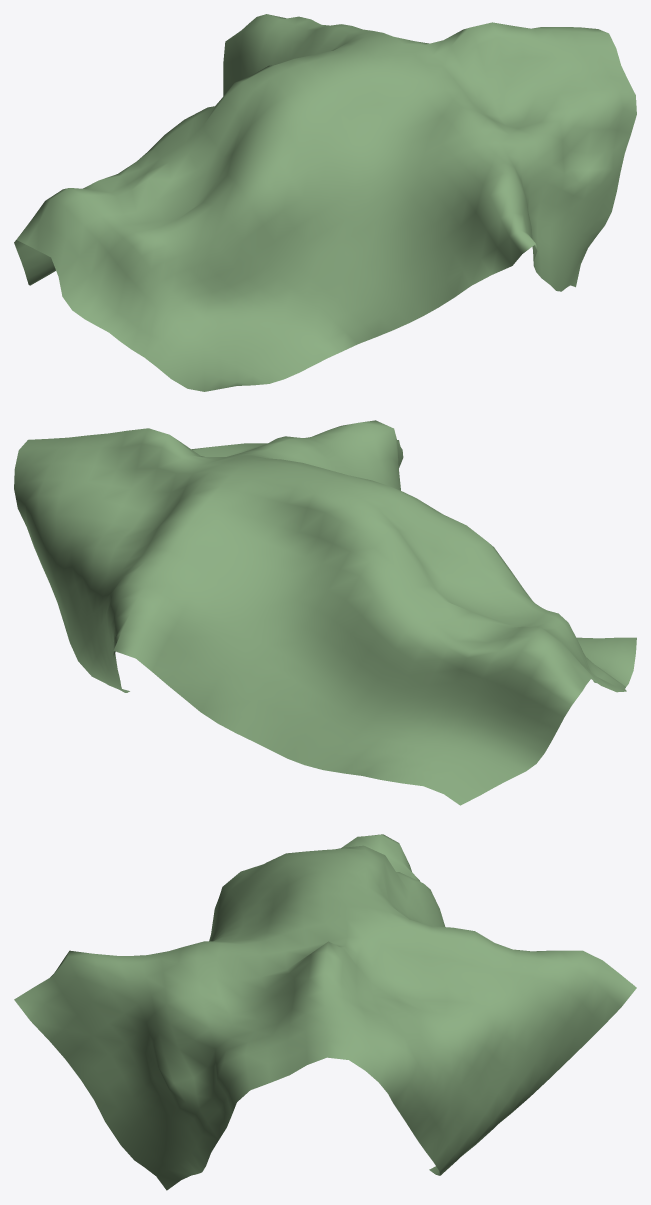
Rendered from Blanket.fbx.
3 views of the same model, one above another, from view 1: azimuth 30°, elevation 25°; view 2: azimuth 150°, elevation 25°; view 3: azimuth 270°, elevation 25° (orthographic). The views are drawn at different scales.
Parts seen in each view (by area): view 1: blanket; view 2: blanket; view 3: blanket.
Boxes of the visible parts, x1,y1,x2,y2 form: blanket: [14, 14, 636, 391]; blanket: [14, 420, 636, 805]; blanket: [14, 834, 636, 1190].
Size of the model in its own units: 37.6 by 13.8 by 32.99.
